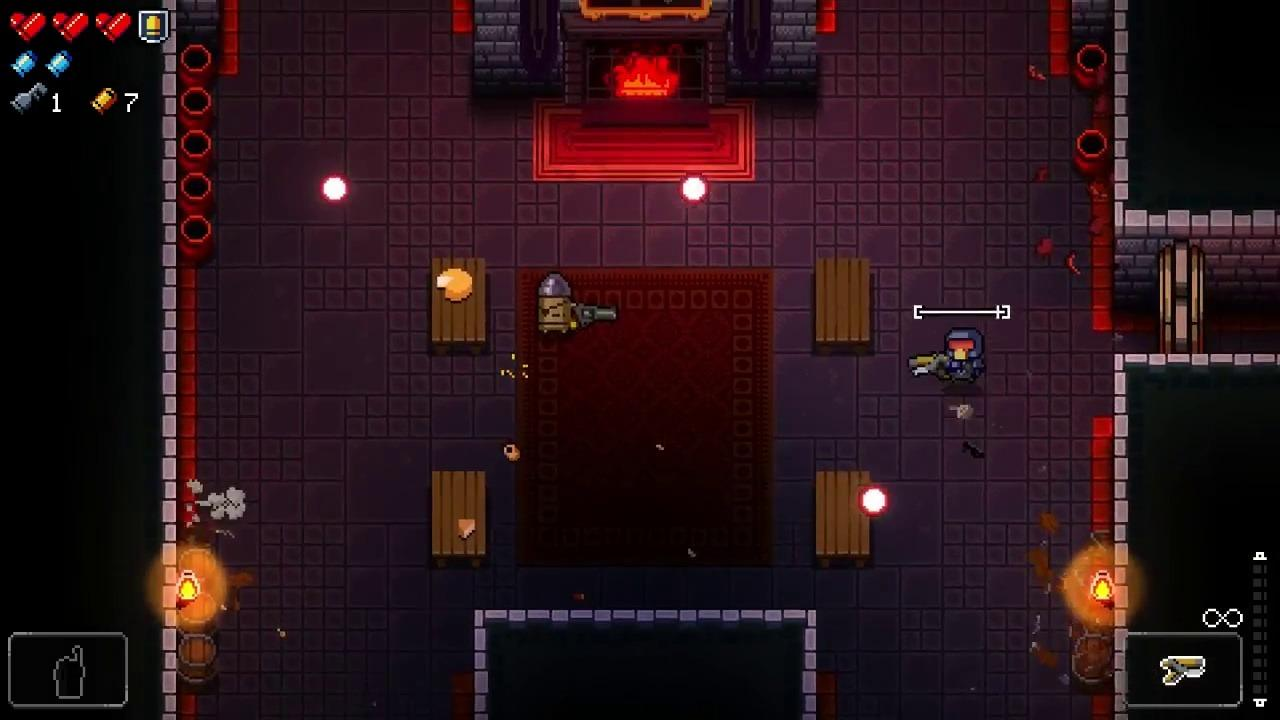bullet: (320, 172, 350, 205), (861, 484, 889, 517), (679, 174, 709, 204)
locked_door: (1160, 238, 1206, 354)
player: (944, 327, 984, 385)
table: (814, 258, 871, 355), (431, 472, 486, 569), (816, 470, 870, 568), (431, 258, 486, 354)
veteran_bullet_kin: (539, 272, 571, 334)
